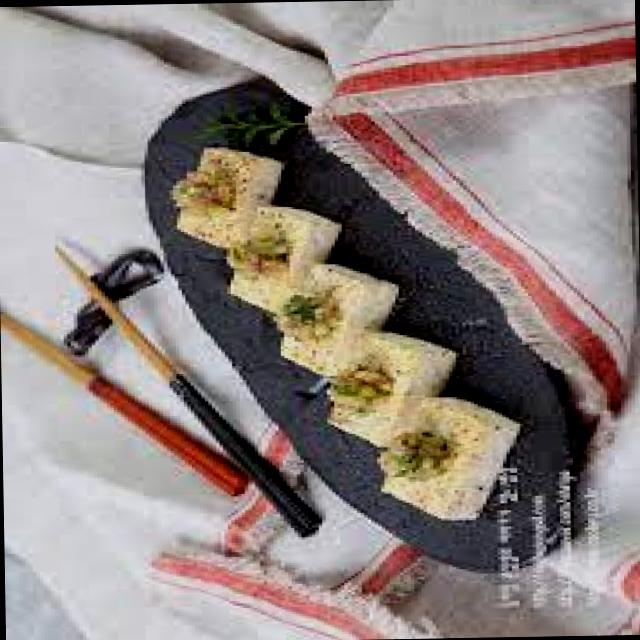tof: (352, 318, 526, 538), (176, 134, 342, 318)
